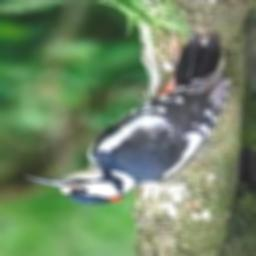Woodpecker: (26, 33, 234, 205)
